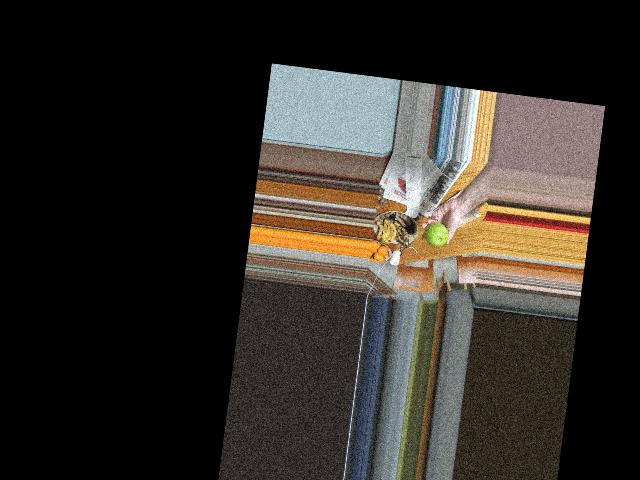apple: (423, 221, 450, 248)
